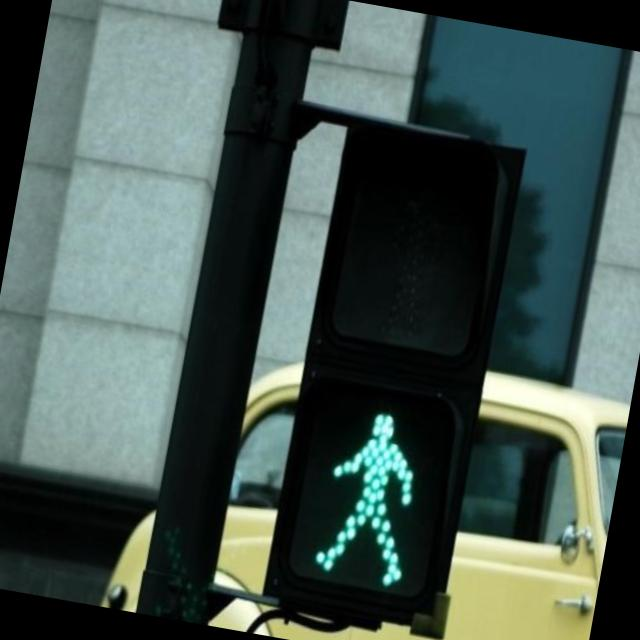green_light: (285, 386, 451, 602)
